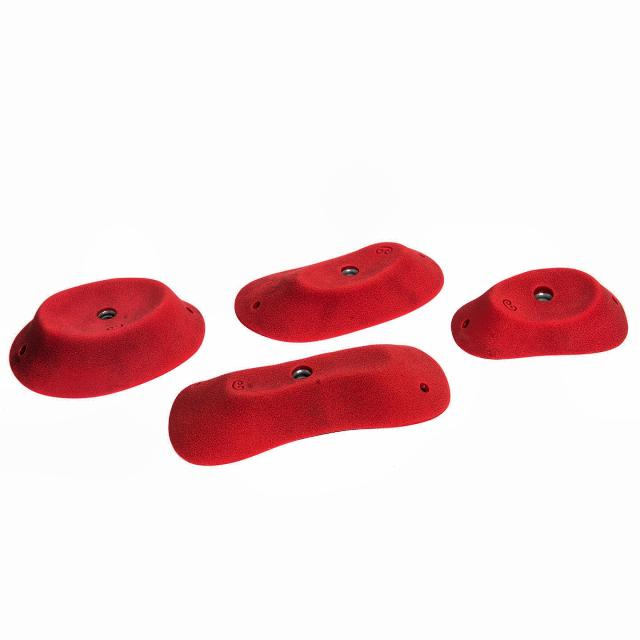Hold: (168, 345, 451, 468), (8, 278, 208, 398), (234, 240, 446, 342), (454, 267, 628, 359)
